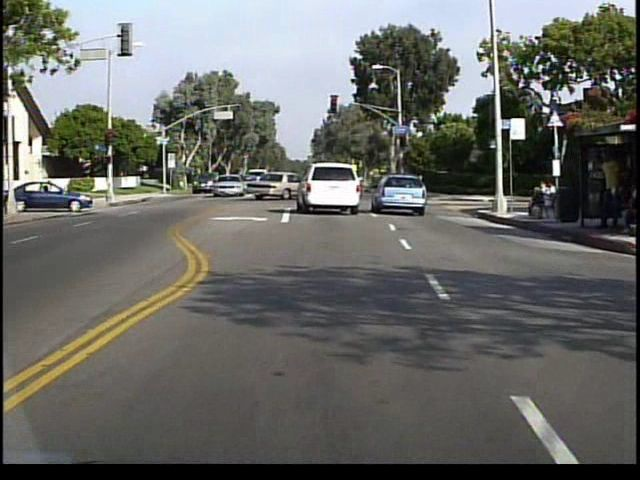person: (528, 178, 548, 216), (545, 178, 557, 216)
